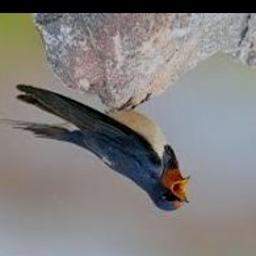Swallow: (13, 85, 190, 210)
